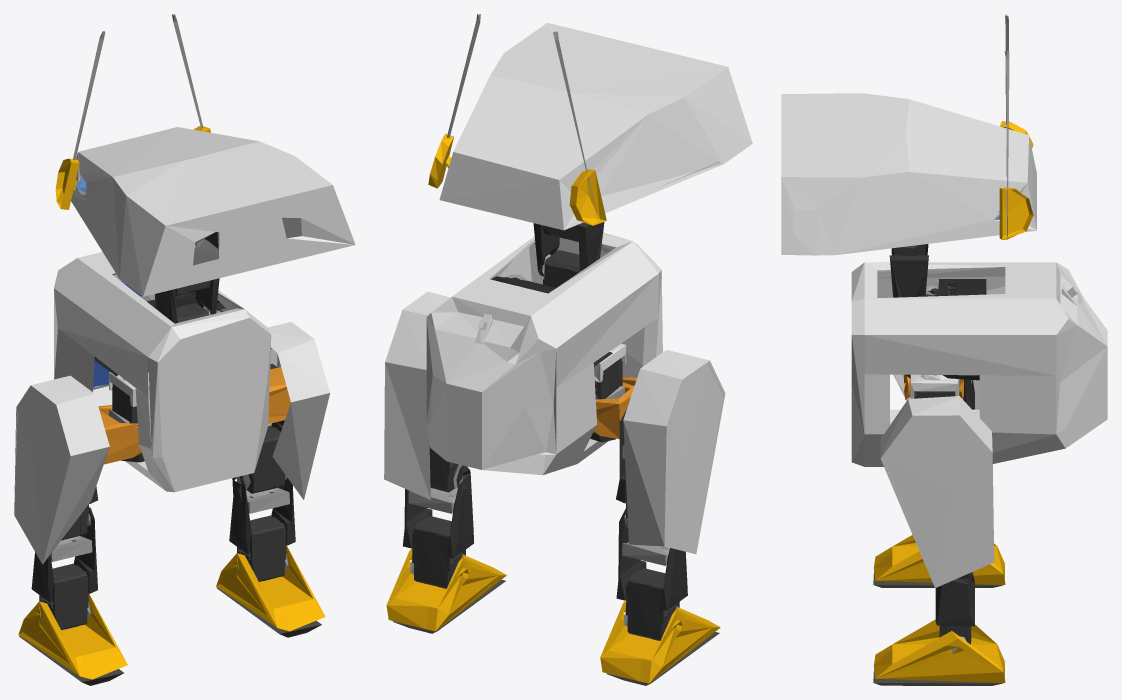
File: open-duck-mini.glb
3 renders of one model, left to right at view 1: azimuth 30°, elevation 25°; view 2: azimuth 150°, elevation 25°; view 3: azimuth 270°, elevation 25°, orthographic. The views are drawn at different scales.
Visible parts, largest first — view 1: head_assembly-part (×2), trunk_assembly-part (×2), knee_and_ankle_assembly_3-part, knee_and_ankle_assembly-part (×2), foot_assembly_2-part (×2), foot_assembly-part (×2), knee_and_ankle_assembly_2-part (×3), knee_and_ankle_assembly_4-part (×3), right_antenna_holder-part (×2), right_roll_to_pitch_assembly-part, neck_pitch_assembly-part, left_roll_to_pitch_assembly-part (+1 smaller); view 2: head_assembly-part, trunk_assembly-part (×3), knee_and_ankle_assembly_3-part, knee_and_ankle_assembly-part (×2), knee_and_ankle_assembly_2-part (×3), knee_and_ankle_assembly_4-part (×3), foot_assembly-part, foot_assembly_2-part, neck_pitch_assembly-part, right_antenna_holder-part, right_roll_to_pitch_assembly-part, left_antenna_holder-part (+1 smaller); view 3: trunk_assembly-part (×2), head_assembly-part, knee_and_ankle_assembly-part, foot_assembly-part (×2), foot_assembly_2-part (×2), left_antenna_holder-part (×2), knee_and_ankle_assembly_2-part, neck_pitch_assembly-part, hip_roll_assembly-part.
Part boxes in pixels (box(x1,y1,x2,y2)): head_assembly-part (×2): box(71, 127, 355, 296); trunk_assembly-part (×2): box(54, 252, 271, 492); knee_and_ankle_assembly_3-part: box(14, 375, 109, 564); knee_and_ankle_assembly-part (×2): box(239, 322, 329, 499); foot_assembly_2-part (×2): box(18, 593, 127, 685); foot_assembly-part (×2): box(216, 545, 325, 637); knee_and_ankle_assembly_2-part (×3): box(229, 475, 295, 581); knee_and_ankle_assembly_4-part (×3): box(31, 507, 97, 629); right_antenna_holder-part (×2): box(55, 31, 105, 209); right_roll_to_pitch_assembly-part: box(98, 405, 141, 464); neck_pitch_assembly-part: box(155, 278, 219, 323); left_roll_to_pitch_assembly-part: box(268, 367, 290, 423); head_assembly-part: box(439, 23, 752, 230); trunk_assembly-part (×3): box(426, 232, 662, 475); knee_and_ankle_assembly_3-part: box(623, 349, 725, 554); knee_and_ankle_assembly-part (×2): box(384, 291, 462, 499); knee_and_ankle_assembly_2-part (×3): box(403, 465, 473, 588); knee_and_ankle_assembly_4-part (×3): box(616, 508, 687, 640); foot_assembly-part: box(386, 548, 506, 631); foot_assembly_2-part: box(600, 600, 720, 683); neck_pitch_assembly-part: box(533, 222, 604, 276); right_antenna_holder-part: box(569, 169, 606, 225); right_roll_to_pitch_assembly-part: box(593, 377, 636, 439); left_antenna_holder-part: box(428, 133, 454, 188); trunk_assembly-part (×2): box(851, 262, 1107, 466); head_assembly-part: box(781, 93, 1036, 255); knee_and_ankle_assembly-part: box(880, 396, 994, 588); foot_assembly-part (×2): box(873, 619, 1005, 685); foot_assembly_2-part (×2): box(873, 535, 1005, 587); left_antenna_holder-part (×2): box(999, 51, 1033, 239); knee_and_ankle_assembly_2-part: box(935, 572, 974, 626); neck_pitch_assembly-part: box(889, 244, 928, 297); hip_roll_assembly-part: box(910, 374, 959, 398).
Size of the model in its own units: 0.239 by 0.5184 by 0.255.
